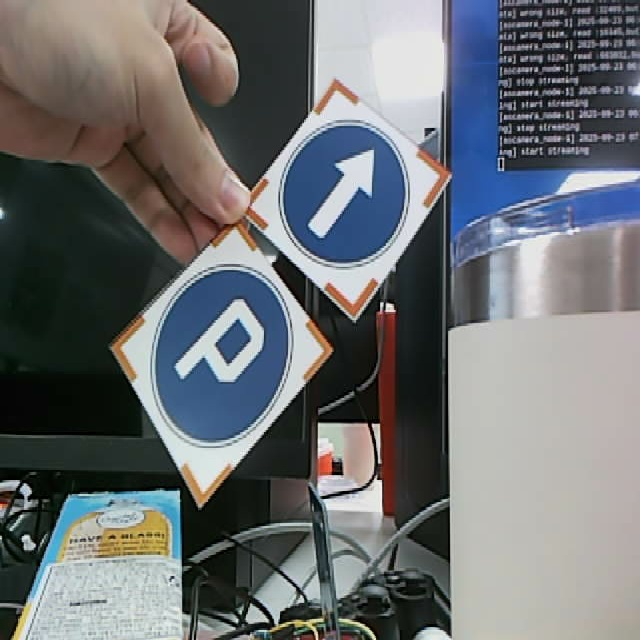parking: (107, 223, 329, 502)
straight: (243, 80, 447, 318)
